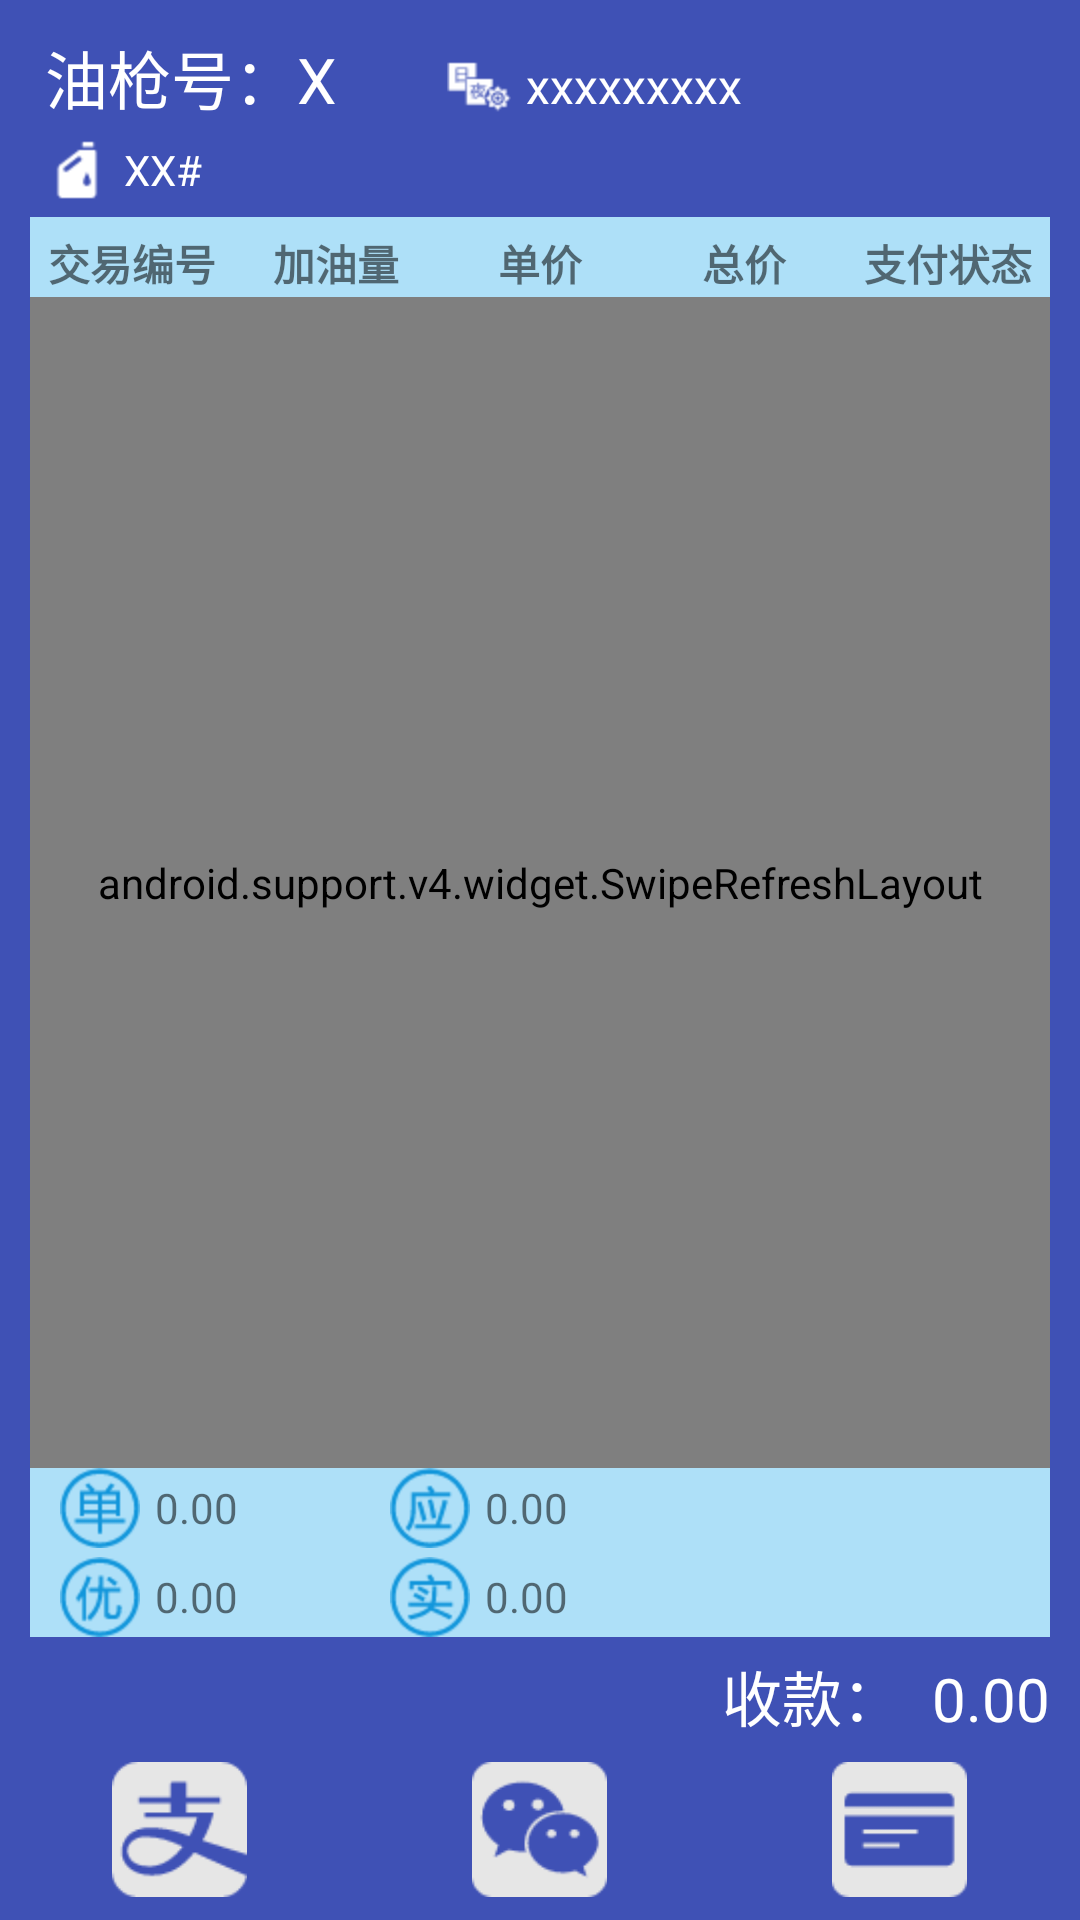

Icons on this 1080 x 1920 Android screen, each with its box as box=[x1, y1, x2, y2]:
bankcard pay: box=[832, 1762, 967, 1897]
